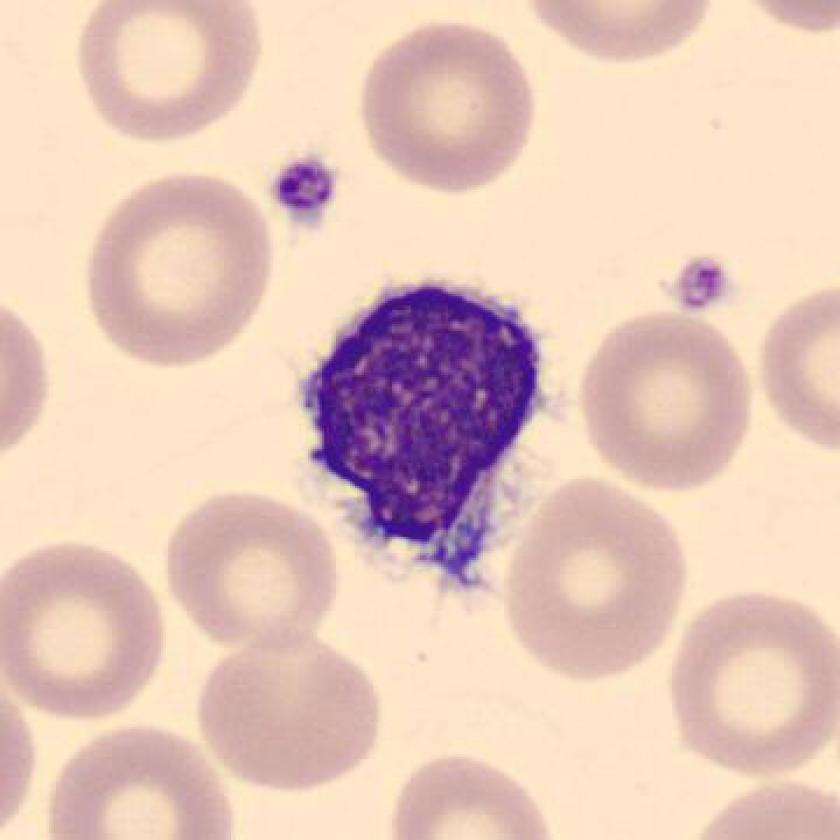lymphocyte: (279, 263, 570, 596)
platelets: (270, 150, 339, 225), (662, 252, 732, 315)
